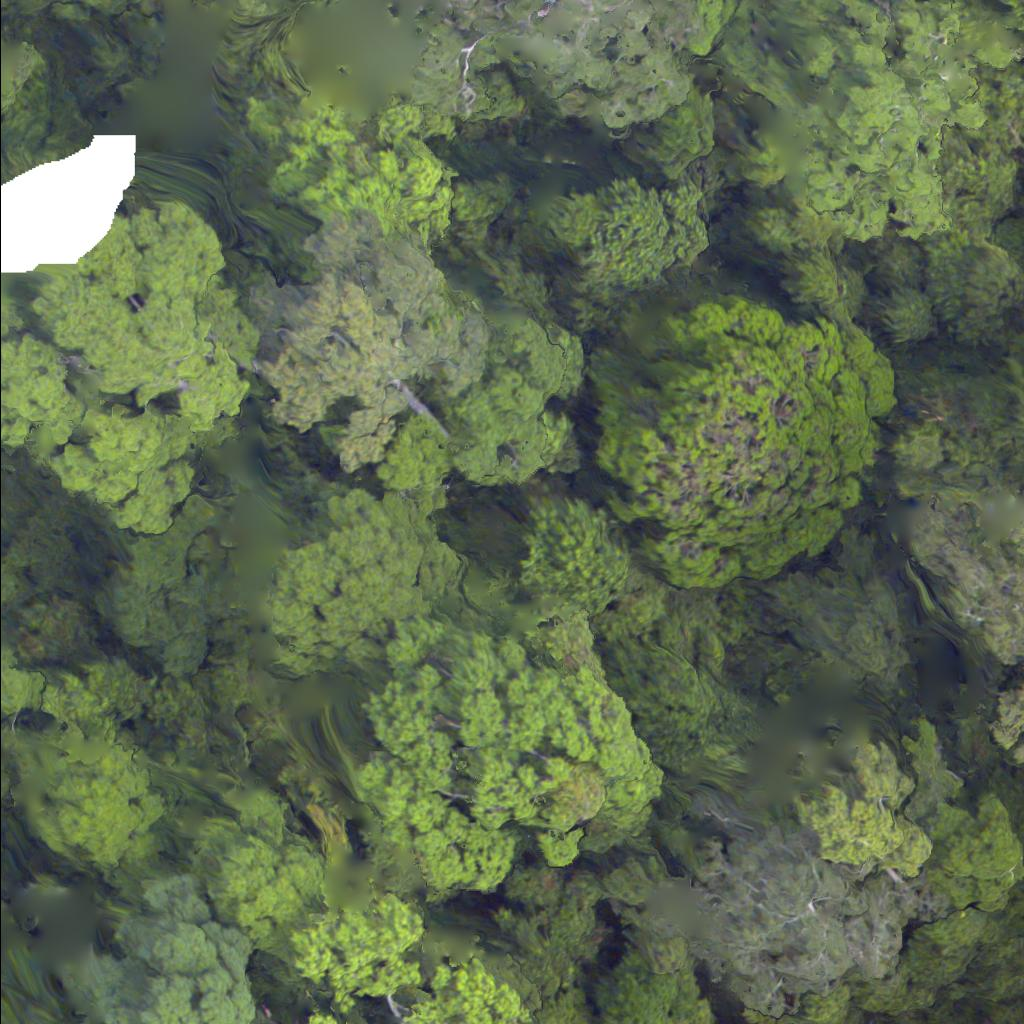crown: (585, 297, 896, 588), (327, 636, 653, 909), (0, 204, 265, 532), (728, 0, 1023, 250), (249, 212, 500, 465), (673, 831, 930, 1016), (352, 0, 732, 123), (0, 881, 274, 1023), (908, 504, 1023, 765)
